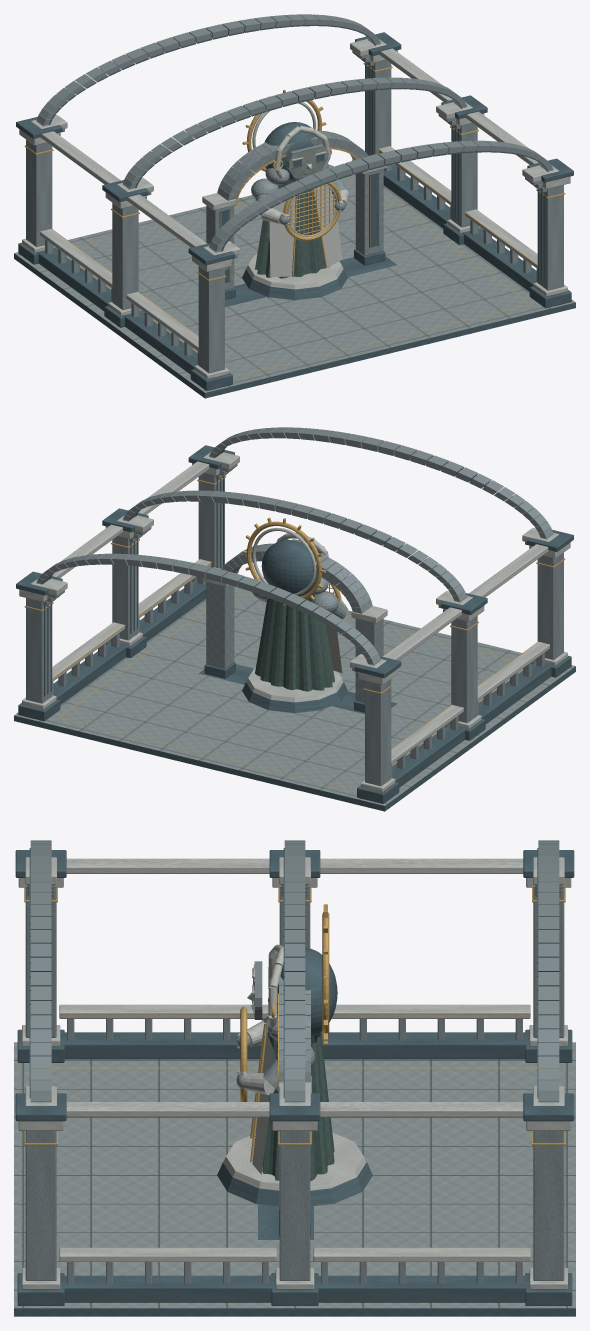
The model's file is sift-architecture-v01.glb.
The picture shows the model from 3 angles, top to bottom: view 1: azimuth 30°, elevation 25°; view 2: azimuth 150°, elevation 25°; view 3: azimuth 270°, elevation 25°; orthographic projection. The views are drawn at different scales.
Parts seen in each view (by area): view 1: HallFloor Atelier floor, WorkHall Atelier stone, WorkHall Atelier edge, WorkHall Atelier pale, SiftGuardian Atelier pale, ThresholdArch Atelier stone, HallFloor Atelier edge, SiftGuardian Atelier cloth, ThresholdArch Atelier edge, SiftGuardian Atelier edge, SiftGuardian Atelier brass, SiftGuardian Atelier stone (+3 smaller); view 2: HallFloor Atelier floor, WorkHall Atelier stone, WorkHall Atelier edge, WorkHall Atelier pale, SiftGuardian Atelier cloth, ThresholdArch Atelier stone, SiftGuardian Atelier edge, HallFloor Atelier edge, SiftGuardian Atelier pale, SiftGuardian Atelier brass, ThresholdArch Atelier edge, SiftGuardian Atelier stone (+3 smaller); view 3: HallFloor Atelier floor, WorkHall Atelier stone, WorkHall Atelier edge, WorkHall Atelier pale, SiftGuardian Atelier pale, HallFloor Atelier edge, SiftGuardian Atelier edge, SiftGuardian Atelier cloth, SiftGuardian Atelier brass, WorkHall Atelier brass, SiftGuardian Atelier stone, ThresholdArch Atelier stone (+2 smaller).
Boxes of the visible parts, box(x1,y1,x2,y2) form: HallFloor Atelier floor: box(14, 173, 575, 392); WorkHall Atelier stone: box(26, 14, 563, 373); WorkHall Atelier edge: box(16, 24, 573, 390); WorkHall Atelier pale: box(19, 39, 570, 379); SiftGuardian Atelier pale: box(246, 102, 349, 289); ThresholdArch Atelier stone: box(206, 130, 383, 289); HallFloor Atelier edge: box(14, 253, 575, 398); SiftGuardian Atelier cloth: box(255, 177, 329, 278); ThresholdArch Atelier edge: box(219, 172, 396, 306); SiftGuardian Atelier edge: box(242, 122, 347, 300); SiftGuardian Atelier brass: box(242, 90, 341, 275); SiftGuardian Atelier stone: box(251, 144, 347, 225); HallFloor Atelier floor: box(14, 586, 575, 805); WorkHall Atelier stone: box(26, 427, 563, 786); WorkHall Atelier edge: box(16, 445, 573, 803); WorkHall Atelier pale: box(19, 452, 570, 792); SiftGuardian Atelier cloth: box(255, 594, 334, 691); ThresholdArch Atelier stone: box(206, 543, 383, 702); SiftGuardian Atelier edge: box(242, 540, 347, 713); HallFloor Atelier edge: box(14, 666, 575, 811); SiftGuardian Atelier pale: box(246, 527, 349, 702); SiftGuardian Atelier brass: box(242, 517, 341, 605); ThresholdArch Atelier edge: box(199, 662, 397, 713); SiftGuardian Atelier stone: box(252, 539, 347, 619); HallFloor Atelier floor: box(14, 1042, 575, 1308); WorkHall Atelier stone: box(25, 840, 564, 1283); WorkHall Atelier edge: box(15, 848, 574, 1305); WorkHall Atelier pale: box(18, 857, 571, 1289); SiftGuardian Atelier pale: box(223, 944, 366, 1190); HallFloor Atelier edge: box(14, 1308, 575, 1316); SiftGuardian Atelier edge: box(217, 948, 372, 1206); SiftGuardian Atelier cloth: box(262, 1031, 334, 1181); SiftGuardian Atelier brass: box(240, 904, 329, 1162); WorkHall Atelier brass: box(24, 888, 565, 1248); SiftGuardian Atelier stone: box(236, 961, 315, 1090); ThresholdArch Atelier stone: box(279, 976, 310, 1082).
Bounding box in the file's own units: 13.9 × 6.8 × 12.4.
Materials: 7 (6 with a texture image).
